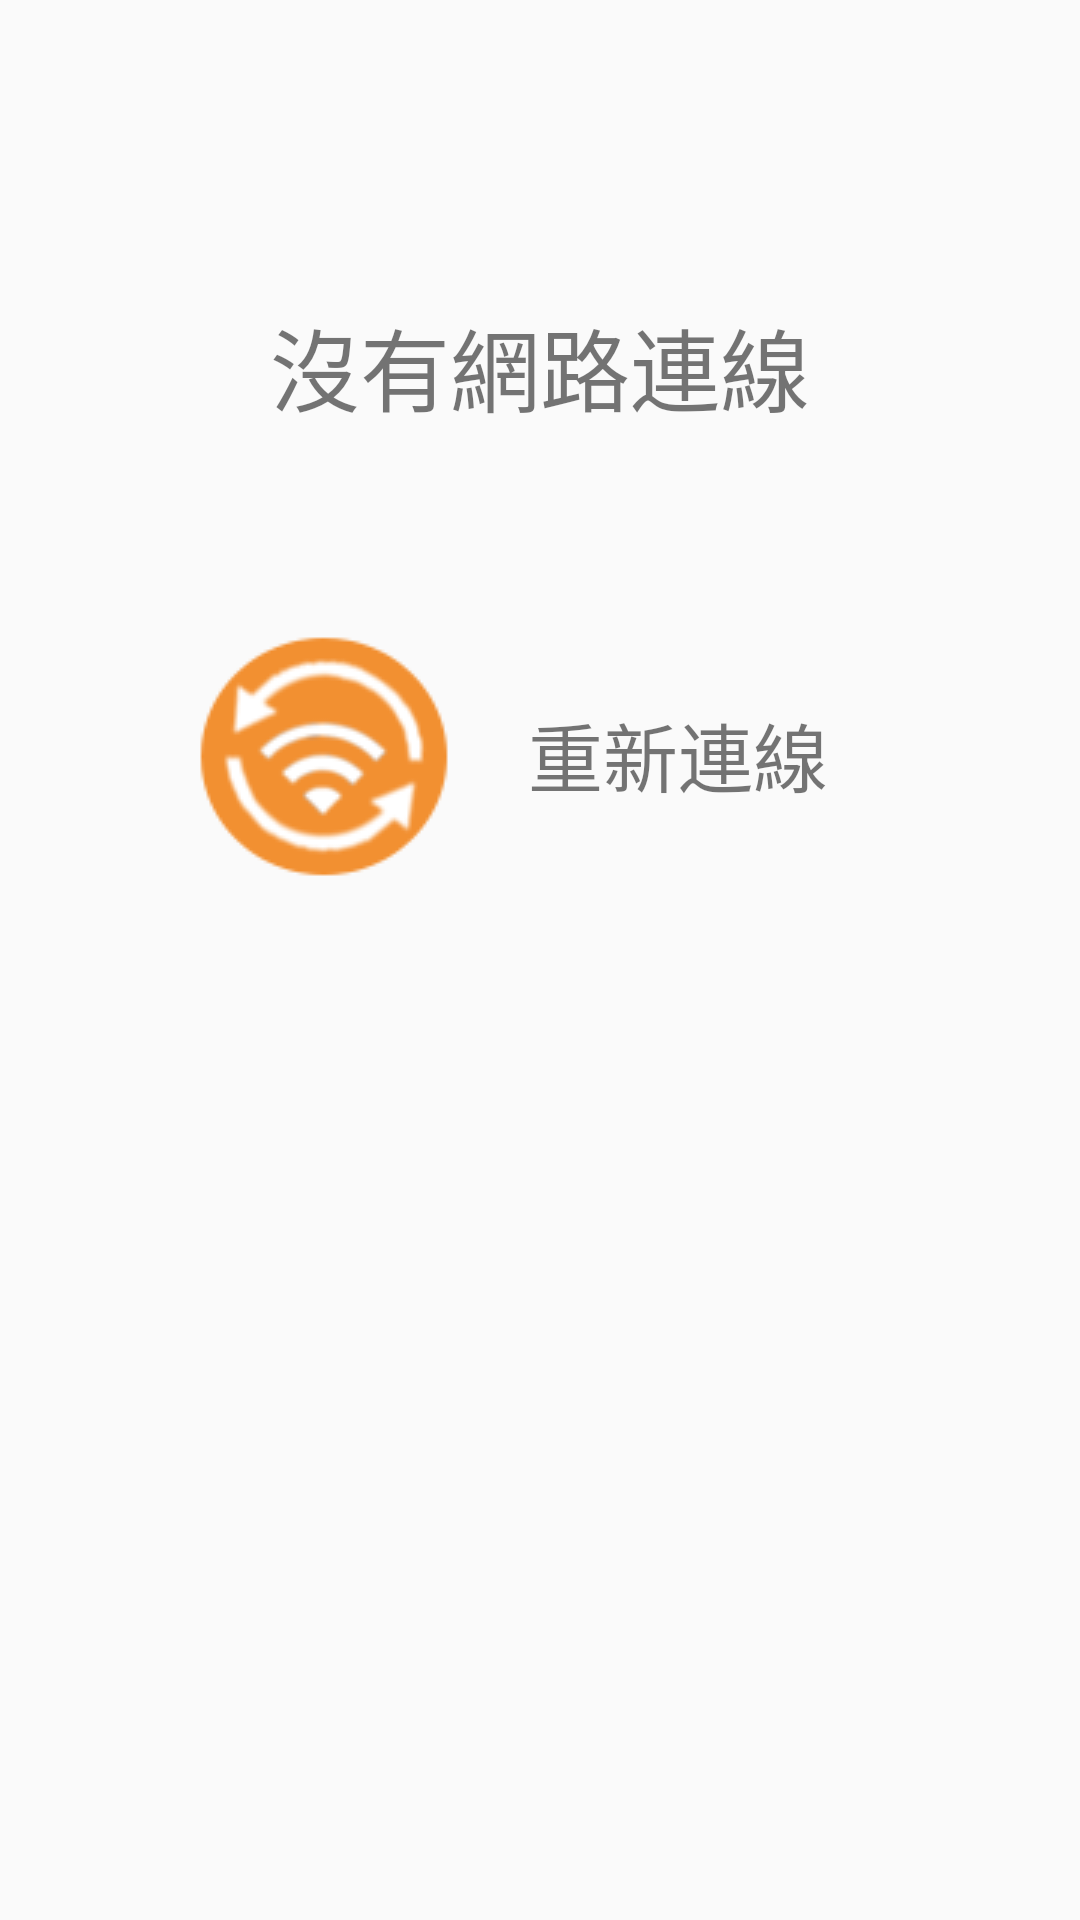

Screen size 1080 × 1920. Icon name, then its box in pixels as box=[x1, y1, x2, y2]:
relink: box=[200, 637, 448, 876]
